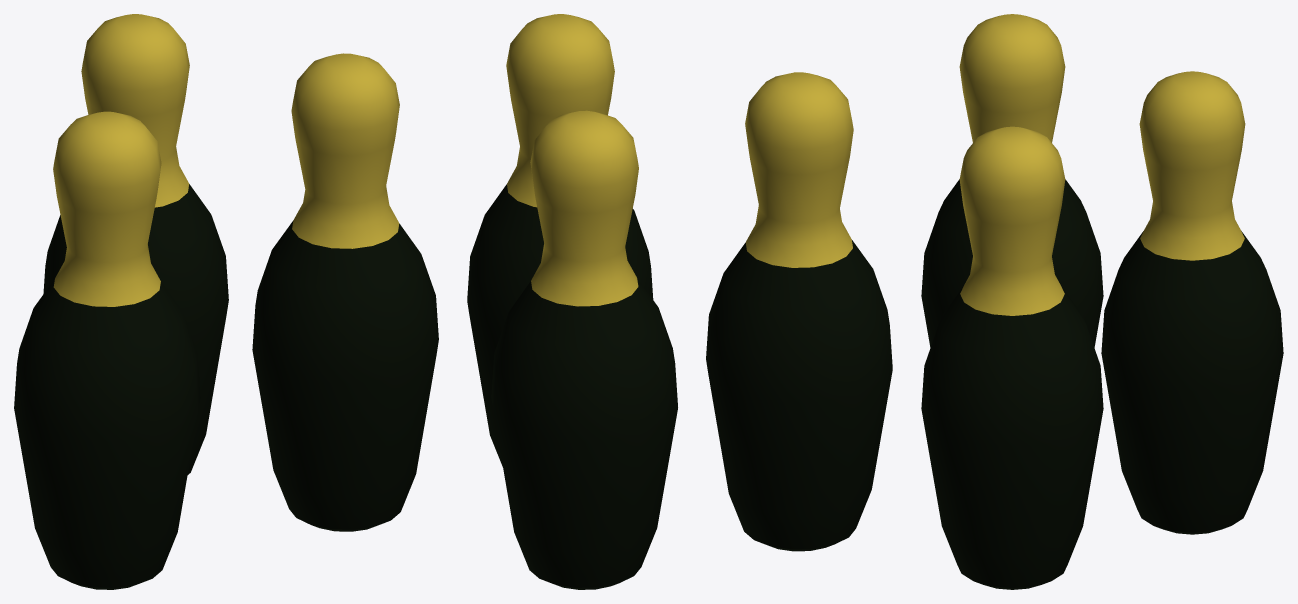
Rendered from Skittle.FBX.
3 views of the same model, side by side, from view 1: azimuth 30°, elevation 25°; view 2: azimuth 150°, elevation 25°; view 3: azimuth 270°, elevation 25° (orthographic). The views are drawn at different scales.
Parts seen in each view (by area): view 1: Skittle; view 2: Skittle; view 3: Skittle.
Part boxes in pixels (x1,y1,x2,y2): Skittle: (14, 14, 438, 589); Skittle: (467, 14, 892, 589); Skittle: (921, 14, 1283, 589).
Size of the model in its own units: 927 by 748 by 998.
